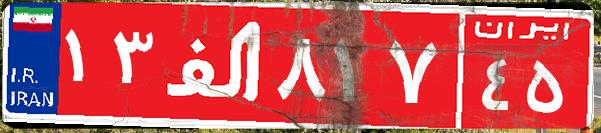1: (330, 28, 385, 110), (57, 26, 110, 107)
3: (110, 28, 158, 105)
4: (475, 38, 525, 113)
5: (525, 38, 570, 115)
7: (385, 28, 445, 110)
8: (273, 28, 330, 110)
الف: (158, 15, 273, 115)
